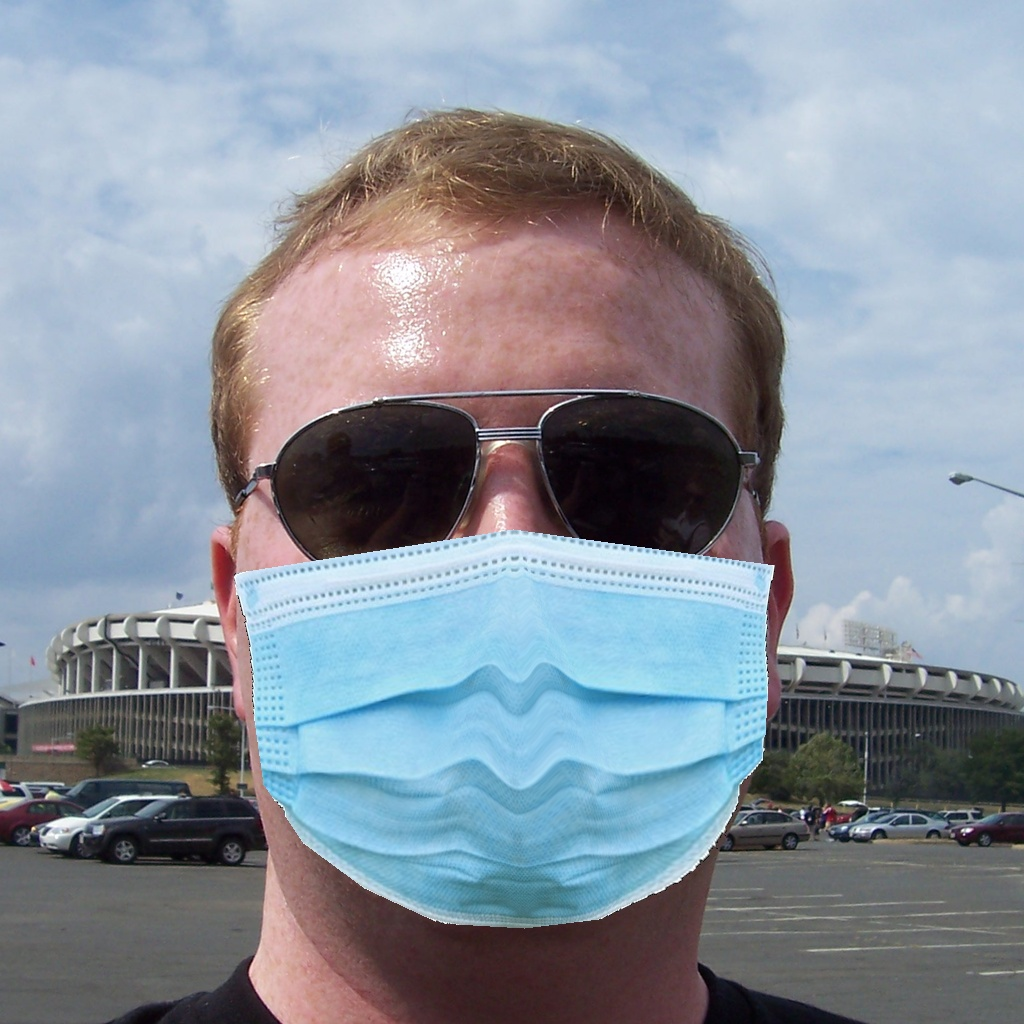Mask: (214, 343, 790, 928)
